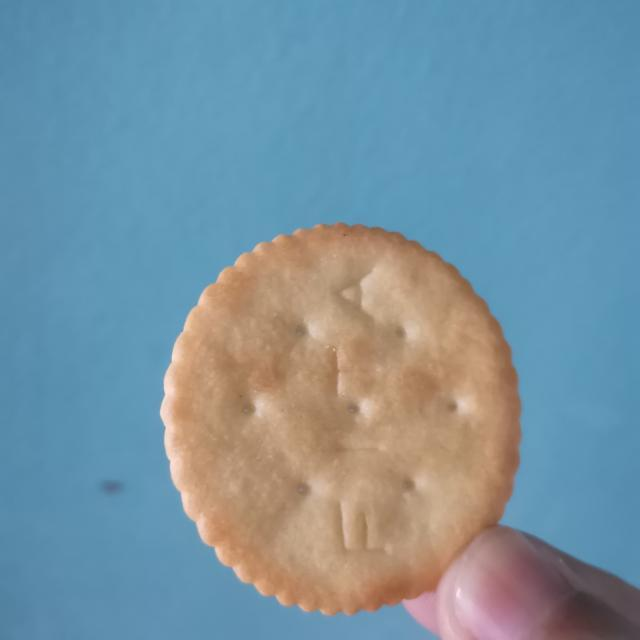Intact: (154, 206, 528, 624)
